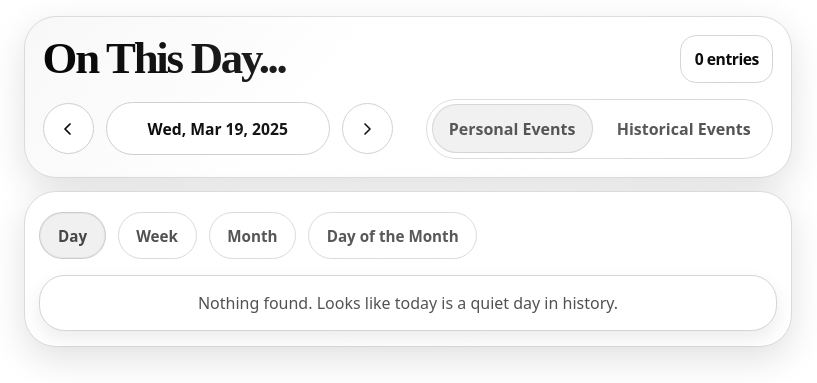
Test: pages/index.vue › switching back to personal tab shows #tab-personal and restores title
Go to history first
Click the tab with id "tab-history-button". click: [684, 129]
box: [600,104,768,153]
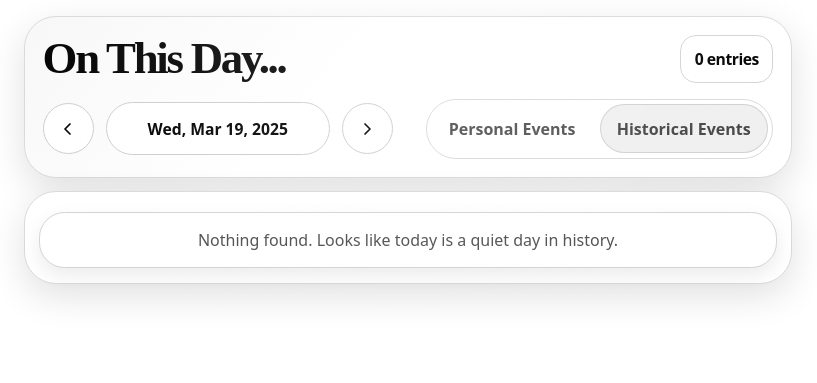
Expected: the heading "On This Day..." is shown, [43,37,286,80]
Switch back to personal
Click the tab with id "tab-personal-button". click: [512, 129]
box: [432,104,592,153]
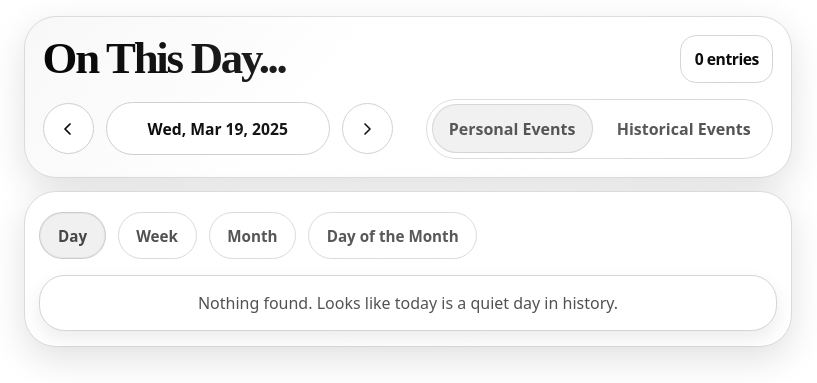
Expected: the heading "On This Day..." is shown, [43,37,286,80]
Now the panel with id "tab-personal" is shown, box [39,207,777,331]
